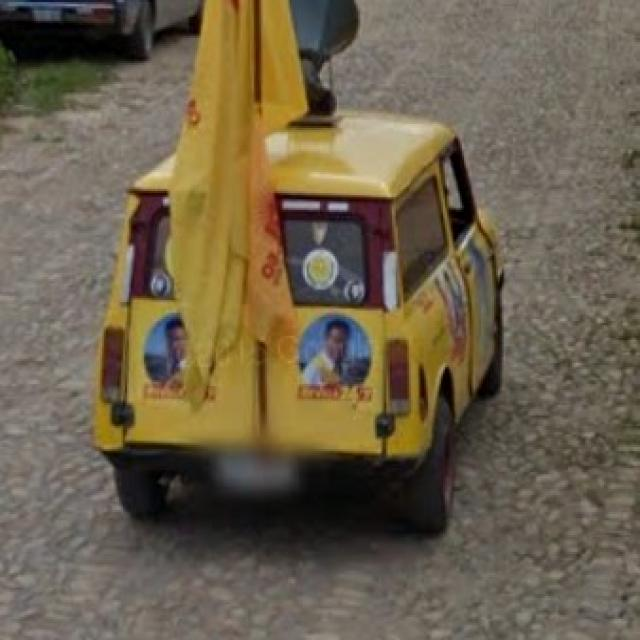car: (101, 129, 515, 542)
